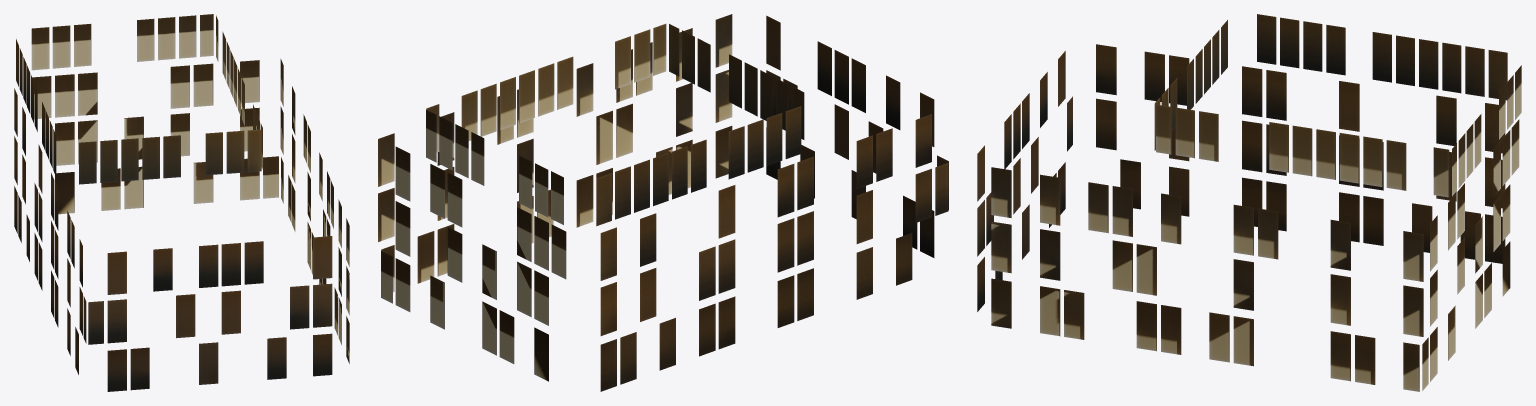
The model's file is Buildin_04_Glass.fbx.
The picture shows the model from 3 angles, left to right: view 1: azimuth 30°, elevation 25°; view 2: azimuth 150°, elevation 25°; view 3: azimuth 270°, elevation 25°; orthographic projection. The views are drawn at different scales.
Visible parts, largest first — view 1: Buildin_04_Glass; view 2: Buildin_04_Glass; view 3: Buildin_04_Glass.
Part boxes in pixels (x1,y1,x2,y2): Buildin_04_Glass: (14,14,349,391); Buildin_04_Glass: (378,14,948,391); Buildin_04_Glass: (977,14,1521,391).
Size of the model in its own units: 22.03 by 11.35 by 26.26.
Materials: 1 (1 with a texture image).
